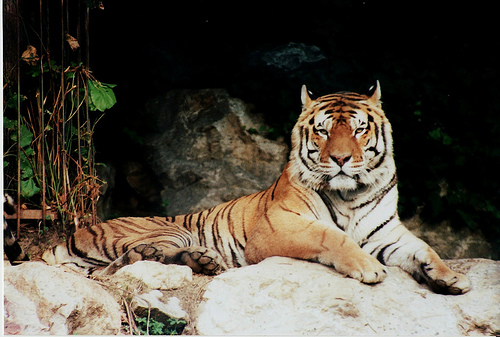Tigre: (99, 88, 456, 296)
